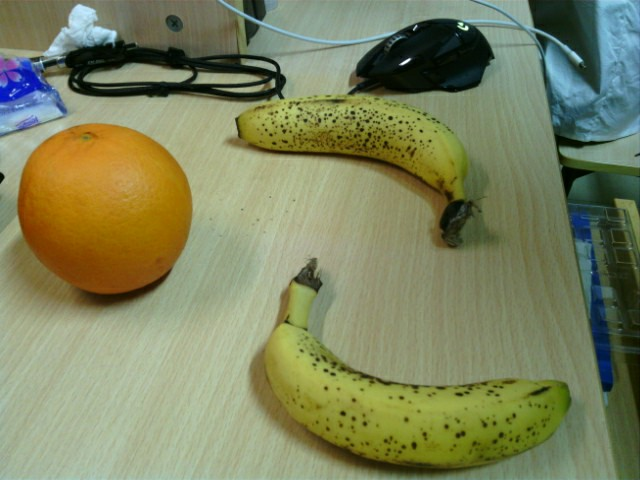normal_banana: (266, 258, 574, 466), (235, 94, 480, 249)
normal_orange: (18, 123, 192, 294)
